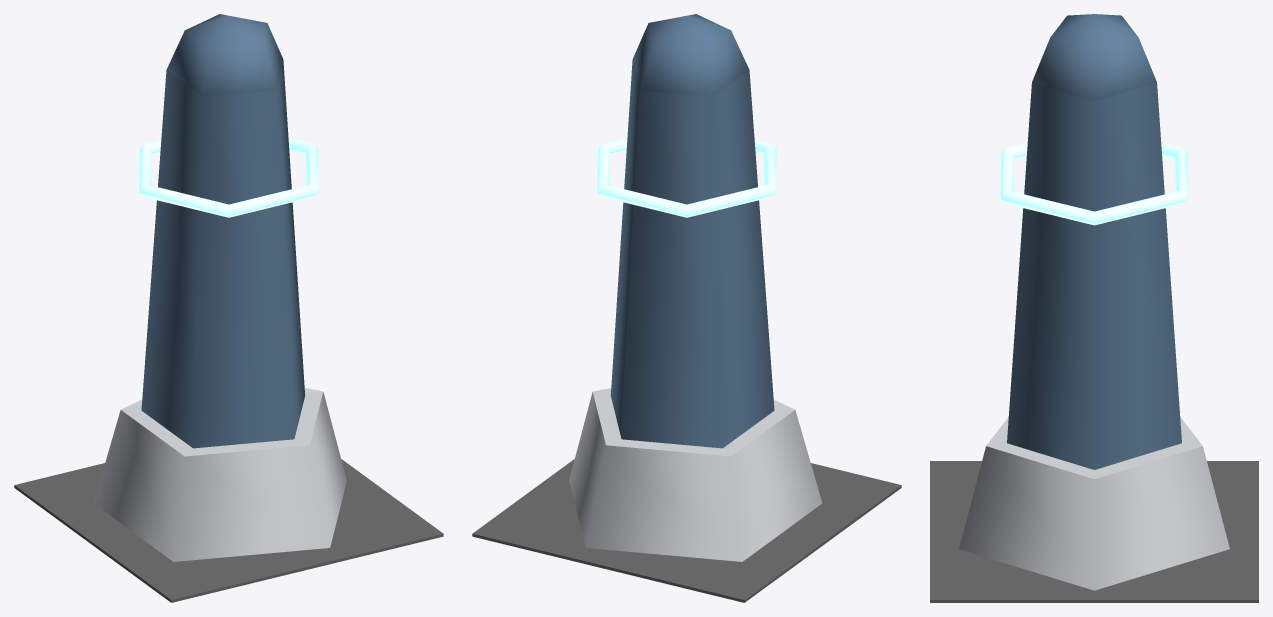
The model's file is bld_special_command_center_a09_lod2.glb.
The picture shows the model from 3 angles, left to right: view 1: azimuth 30°, elevation 25°; view 2: azimuth 150°, elevation 25°; view 3: azimuth 270°, elevation 25°; orthographic projection. The views are drawn at different scales.
Visible parts, largest first — view 1: body; view 2: body; view 3: body.
Boxes of the visible parts, bbox=[...] form: body: bbox=[14, 14, 443, 602]; body: bbox=[472, 14, 901, 602]; body: bbox=[930, 14, 1258, 602].
Size of the model in its own units: 15 by 26.15 by 15.
